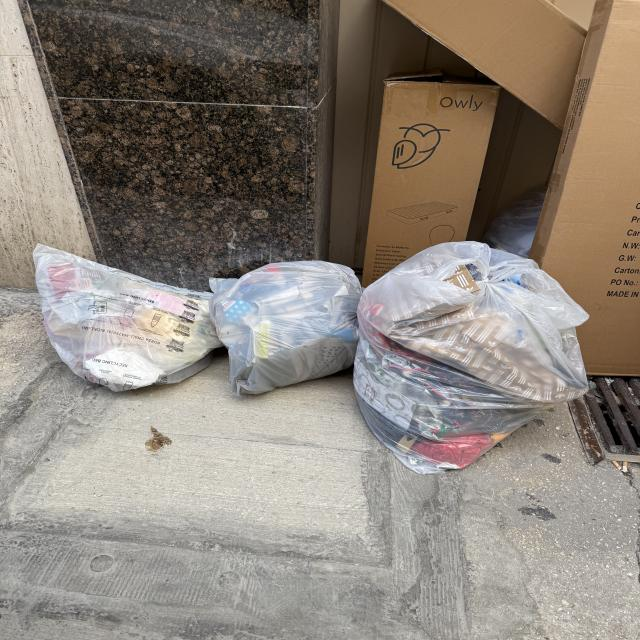Recyclable Material -Grey Bags-: (35, 241, 590, 473)
